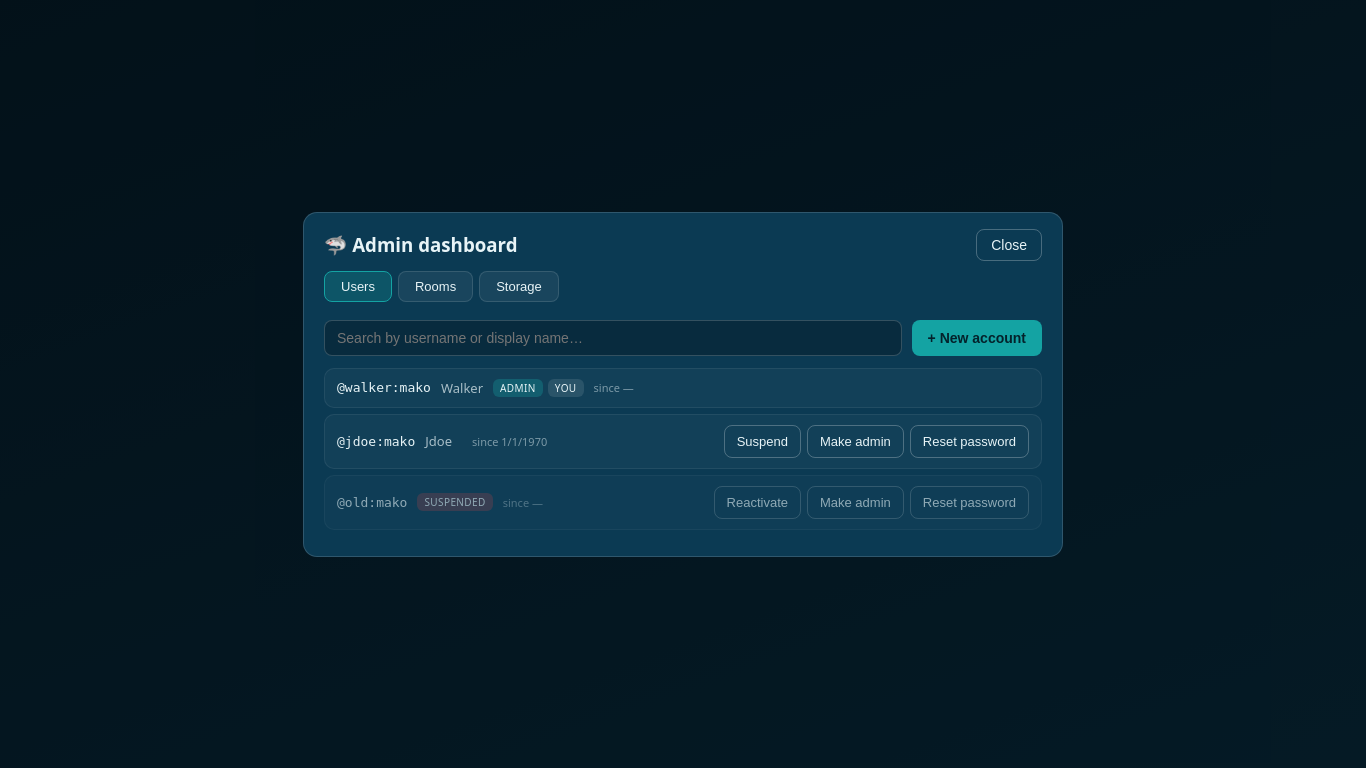
Test: AdminPanel › shows storage stats and the security summary on the Storage tab
The image size is (1366, 768).
Expected: the text "@jdoe:mako" is shown, [337,434,415,448]
Step 1. Click the button "Storage" → (519, 286), box [479,270,559,302]
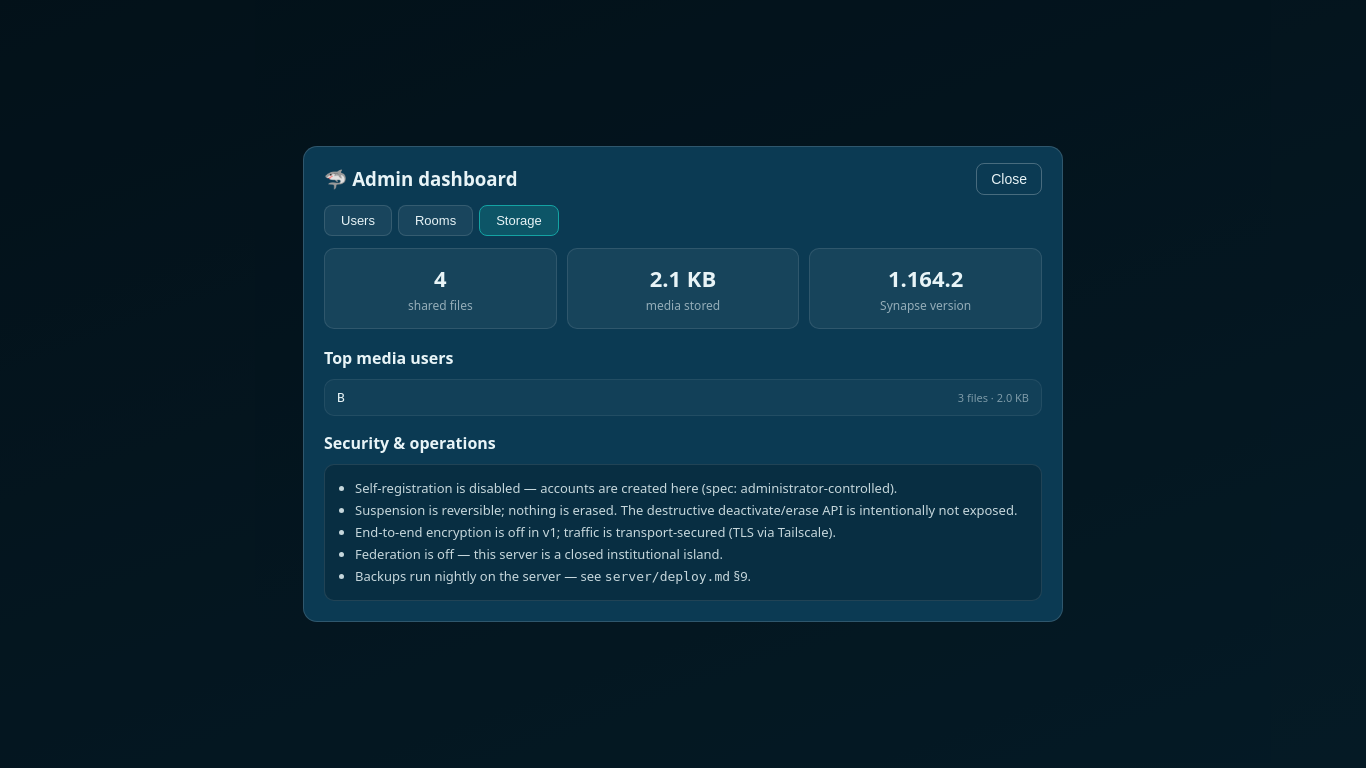
Expected: the text "1.164.2" is shown, [888,263,963,293]
Expected: the text "4" is shown, [434,263,447,293]
Expected: the text "2.1 KB" is shown, [650,263,716,293]
